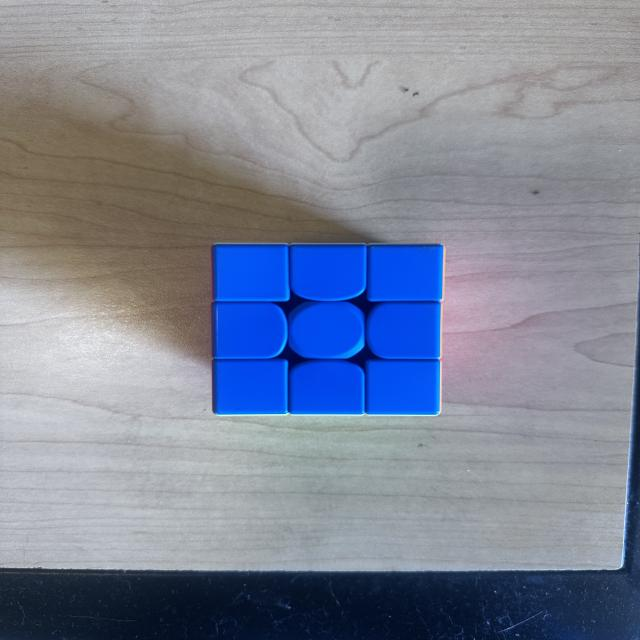sticker: (288, 243, 370, 305), (288, 301, 371, 362), (365, 243, 446, 305), (212, 243, 292, 305), (365, 301, 445, 362), (212, 357, 291, 417), (212, 301, 290, 361), (365, 358, 442, 418), (291, 359, 365, 413)
